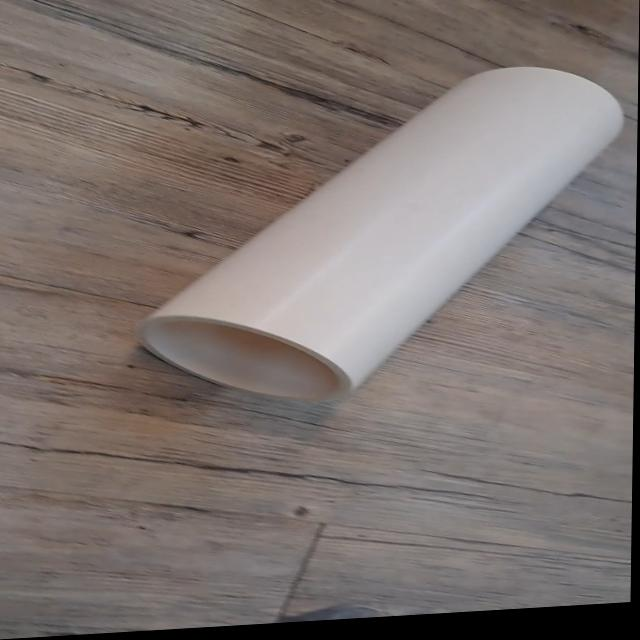CORAL: (131, 48, 631, 421)
